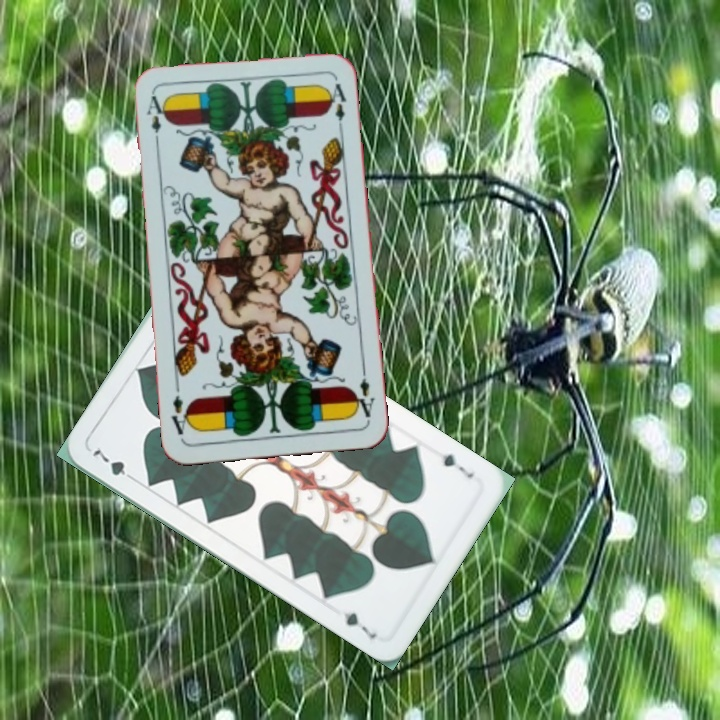EA: (350, 363, 377, 422), (143, 91, 165, 150)
G7: (88, 444, 139, 485), (438, 450, 476, 481)
